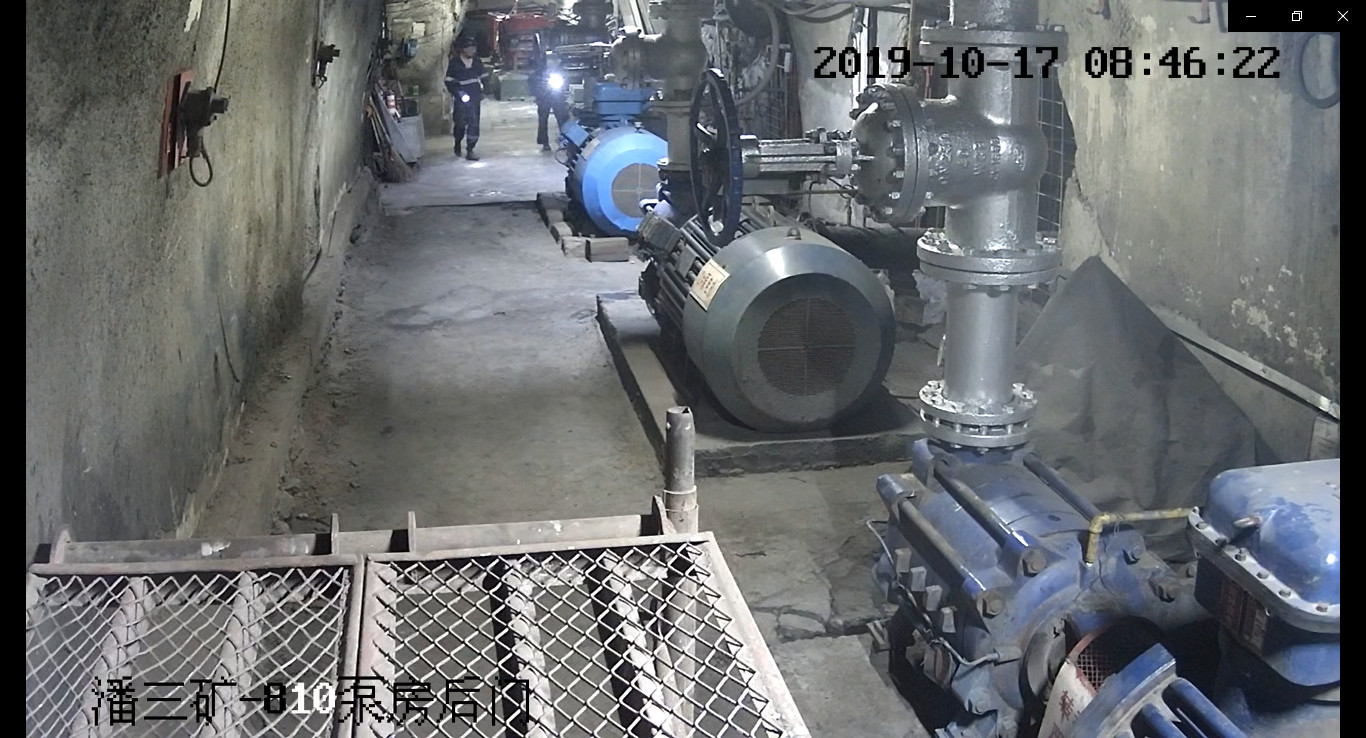helmet: (460, 36, 480, 47)
